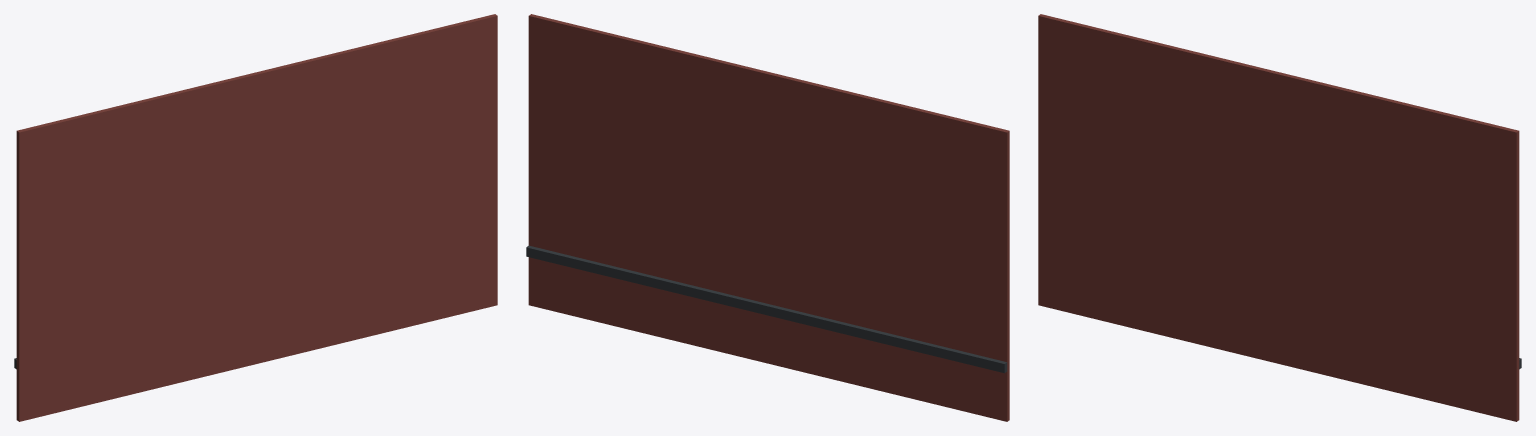
The model's file is horse_box_wall_plain.glb.
3 renders of one model, left to right at view 1: azimuth 30°, elevation 25°; view 2: azimuth 150°, elevation 25°; view 3: azimuth 330°, elevation 25°, orthographic.
Parts seen in each view (by area): view 1: body:compound; view 2: body:compound; view 3: body:compound.
Boxes of the visible parts, left/top/right/bottom form: body:compound: left=14, top=14, right=497, bottom=421; body:compound: left=526, top=14, right=1009, bottom=421; body:compound: left=1038, top=14, right=1521, bottom=421.
Size of the model in its own units: 3.41 by 1.97 by 0.0625.
